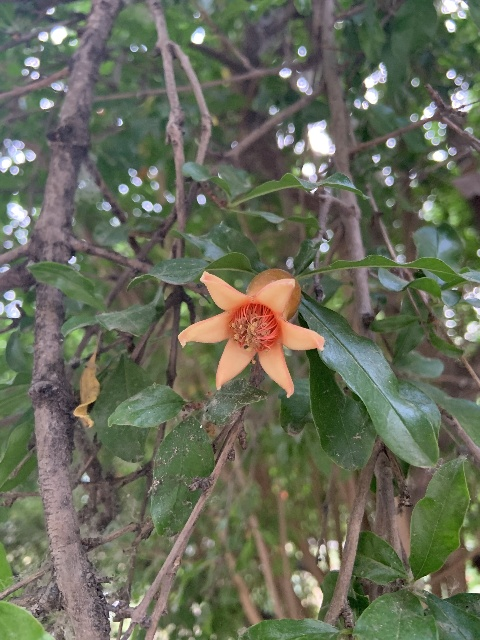early-fruit: (178, 267, 323, 397)
